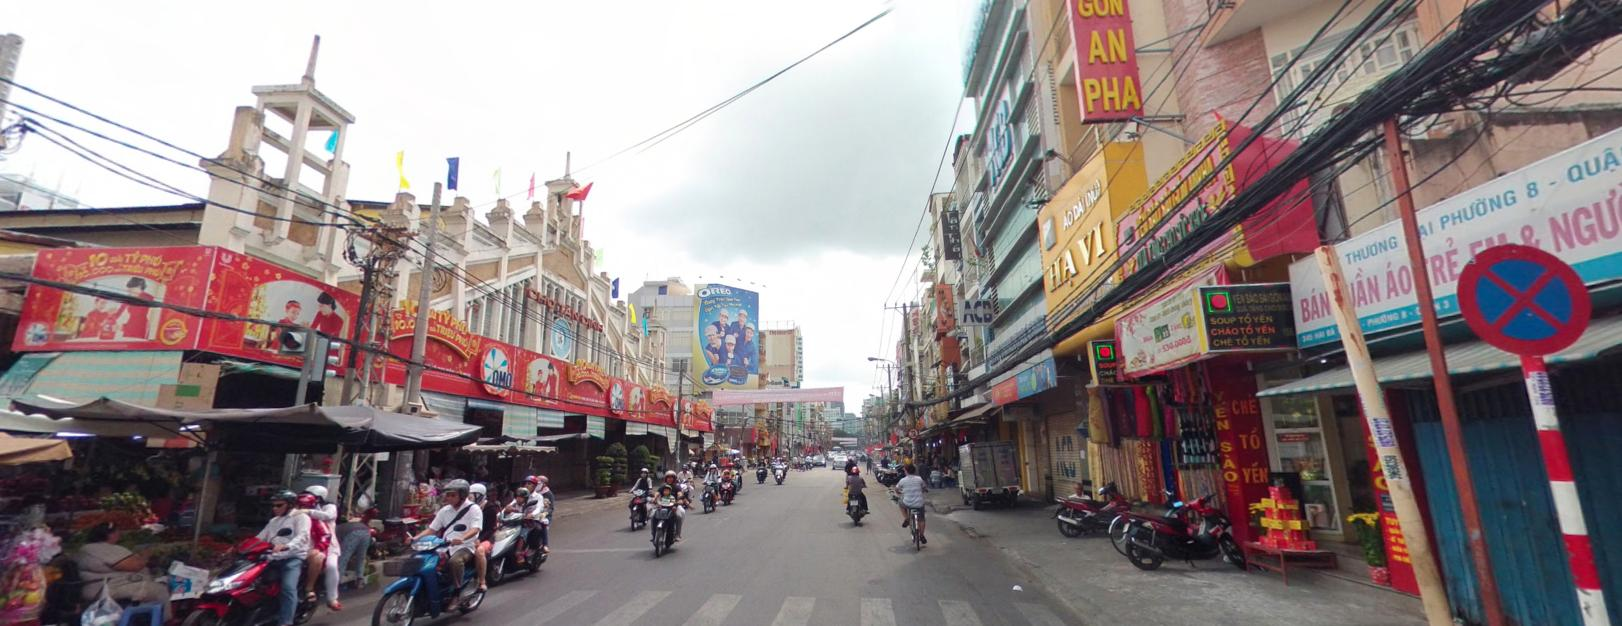Cam dung va do: (1456, 239, 1594, 355)
Cam re: (907, 426, 918, 438)
